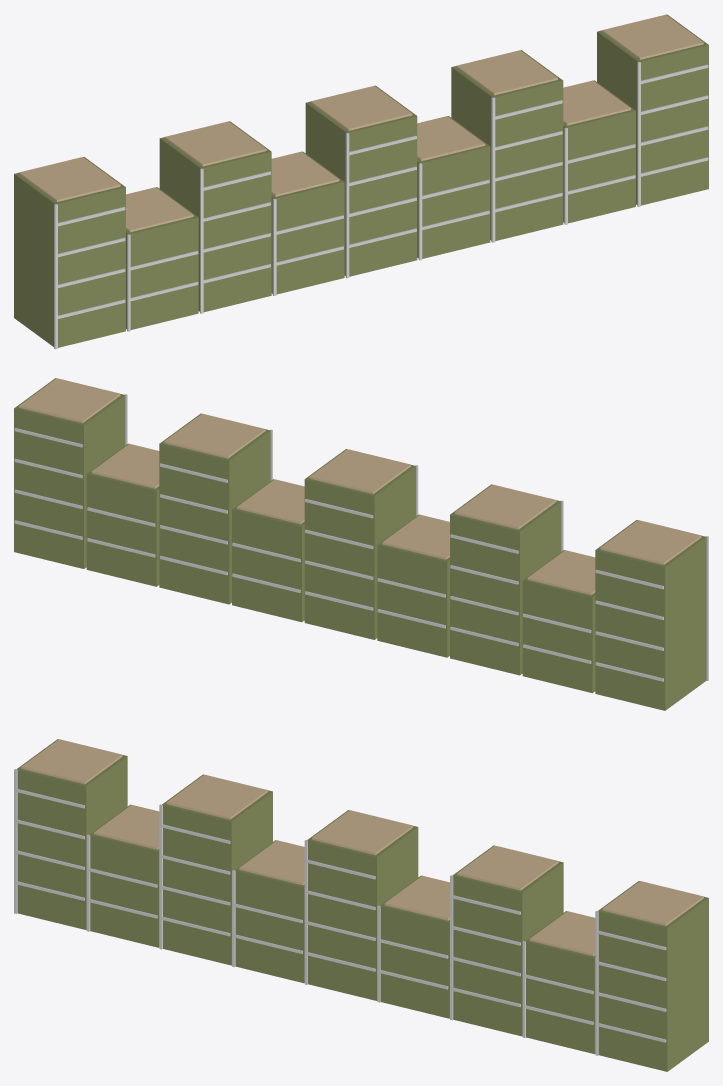
The model's file is SM_MuroHesco_v2_Escalonado_e0_Sano_LOD0.fbx.
The picture shows the model from 3 angles, top to bottom: view 1: azimuth 30°, elevation 25°; view 2: azimuth 150°, elevation 25°; view 3: azimuth 330°, elevation 25°; orthographic projection.
Parts seen in each view (by area): view 1: SM_bloques.muro_hesco_estados_v8_LOD0; view 2: SM_bloques.muro_hesco_estados_v8_LOD0; view 3: SM_bloques.muro_hesco_estados_v8_LOD0.
Part boxes in pixels (x1,y1,x2,y2): SM_bloques.muro_hesco_estados_v8_LOD0: (14, 14, 708, 349); SM_bloques.muro_hesco_estados_v8_LOD0: (14, 378, 708, 710); SM_bloques.muro_hesco_estados_v8_LOD0: (14, 739, 708, 1071).
Bounding box in the file's own units: 9.98 × 2.13 × 1.14.
